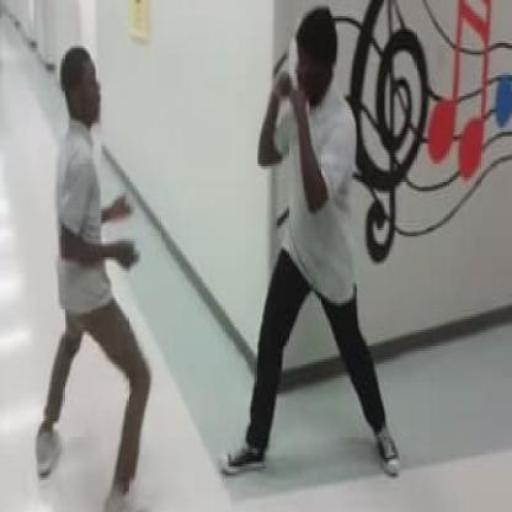Fighting: (23, 0, 399, 506)
